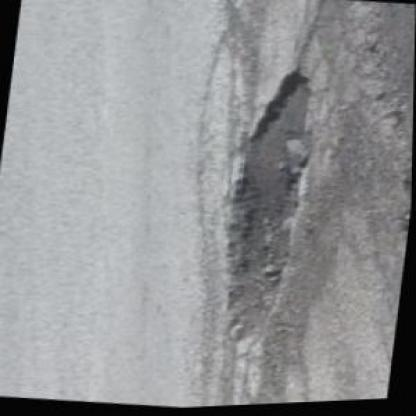pothole: (200, 60, 326, 350)
